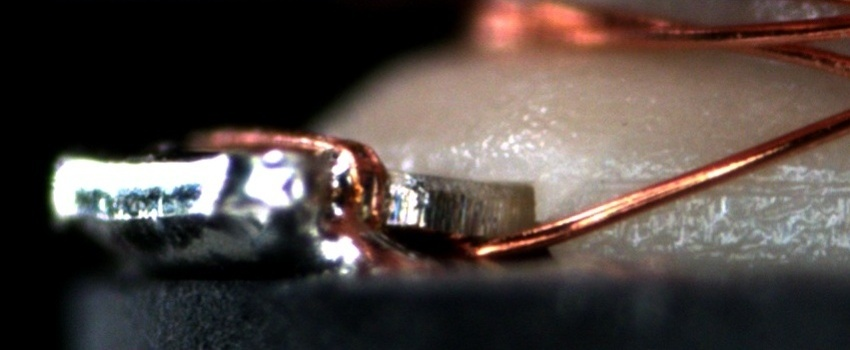DL: (601, 157, 849, 215)
TE: (189, 123, 390, 235)
